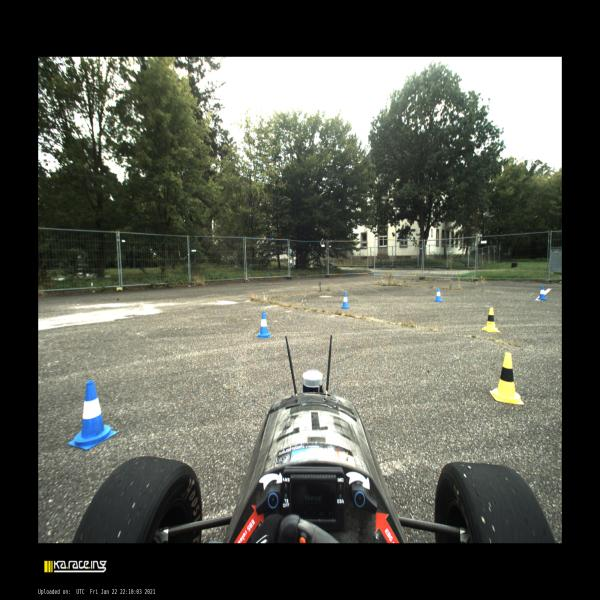blue_cone: (68, 380, 117, 450), (257, 311, 272, 339), (341, 292, 350, 309), (434, 288, 443, 302), (538, 286, 547, 300)
yellow_cone: (490, 352, 523, 404), (482, 308, 500, 332)
